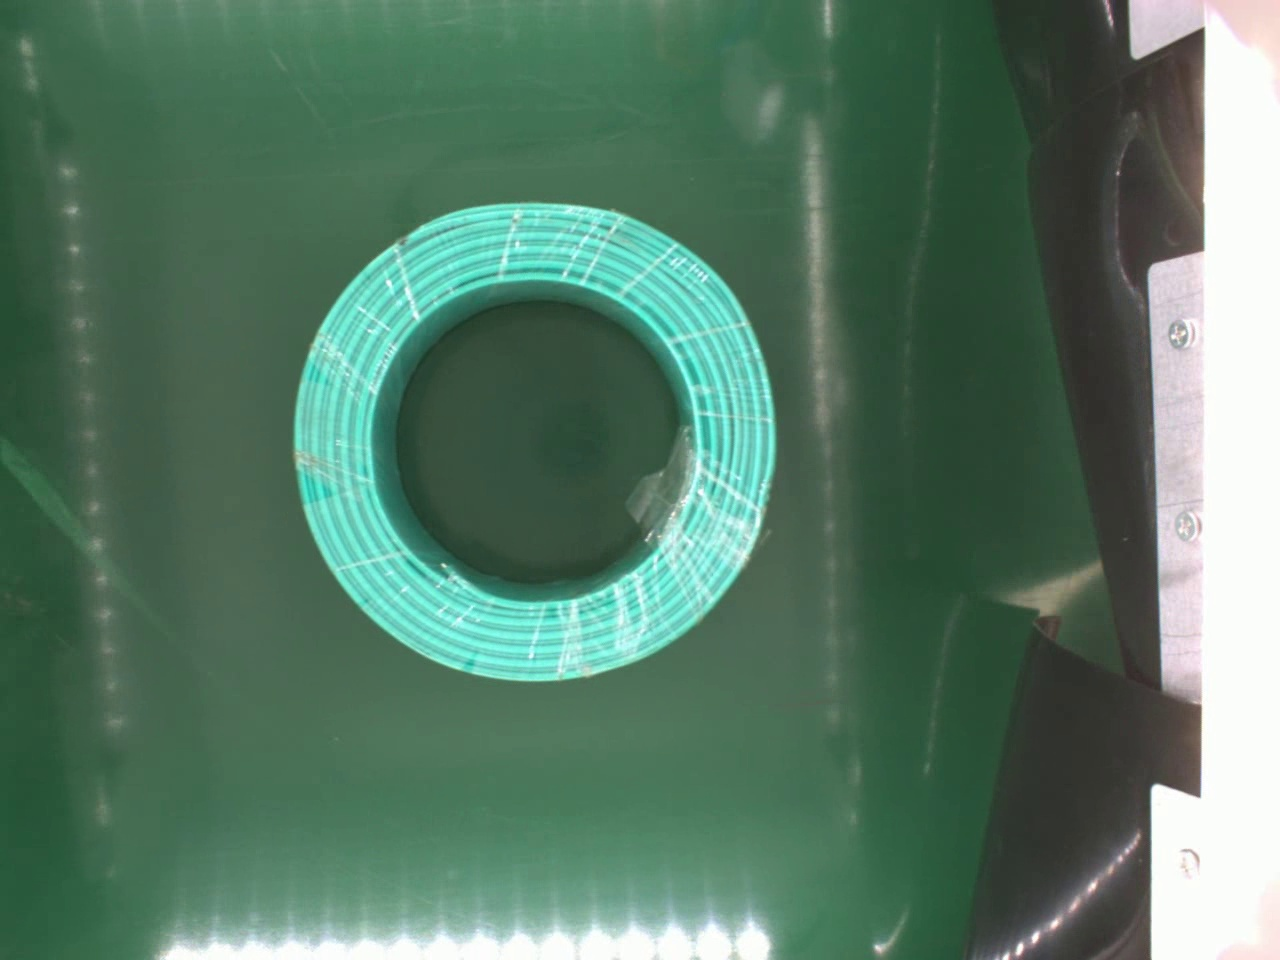green: (290, 199, 781, 694)
